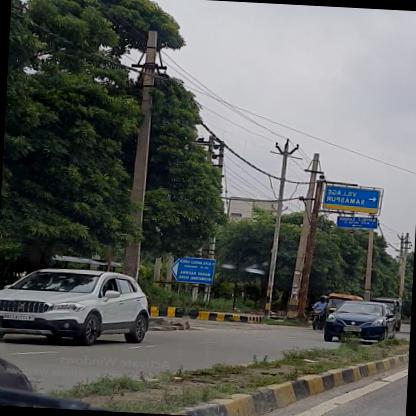car: (0, 265, 152, 352), (321, 298, 396, 346)
motorcycle: (310, 294, 326, 330)
